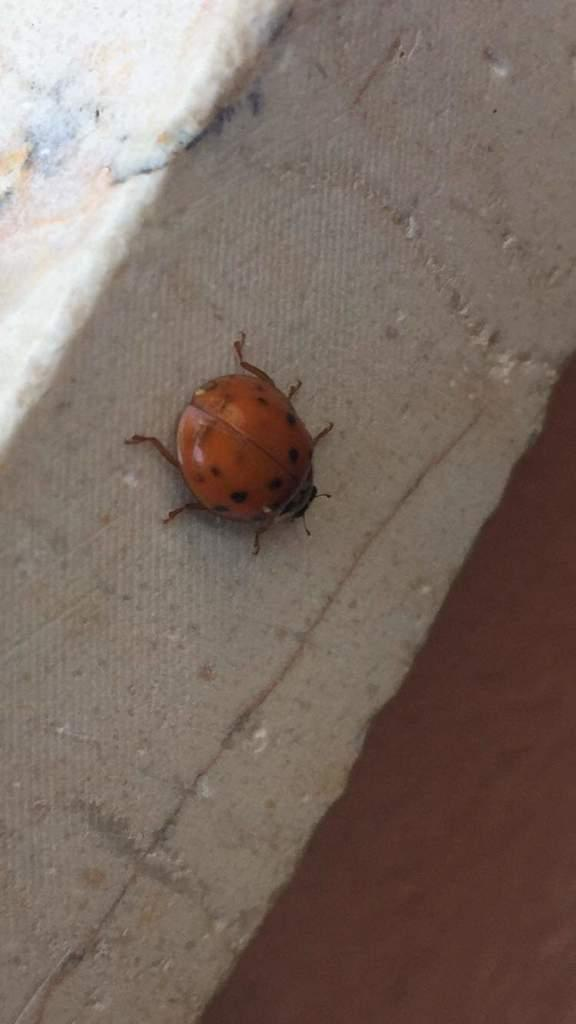ladybug: (119, 324, 341, 561)
